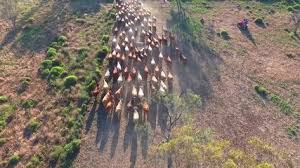sheep: (130, 106, 141, 122), (136, 81, 146, 98), (113, 99, 124, 114), (115, 72, 127, 85), (149, 71, 160, 85), (100, 79, 111, 92), (101, 89, 111, 102), (130, 85, 139, 99), (134, 72, 145, 83), (165, 70, 176, 81), (148, 55, 158, 67), (157, 68, 167, 79), (114, 59, 123, 71), (102, 68, 112, 78), (142, 99, 151, 110), (148, 82, 157, 93), (107, 99, 114, 112), (156, 52, 166, 61), (165, 56, 174, 64)
